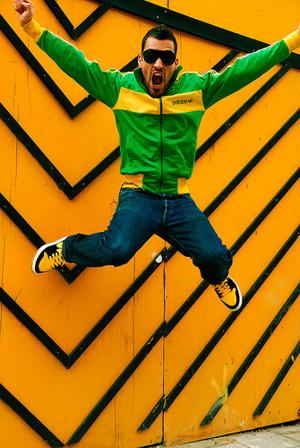person: (12, 3, 300, 313)
